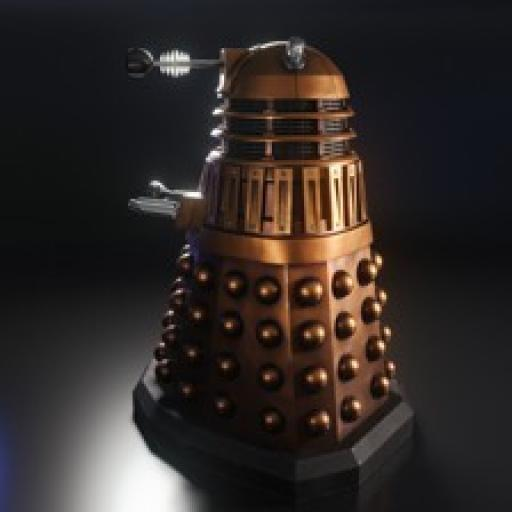dalek: (110, 34, 414, 484)
